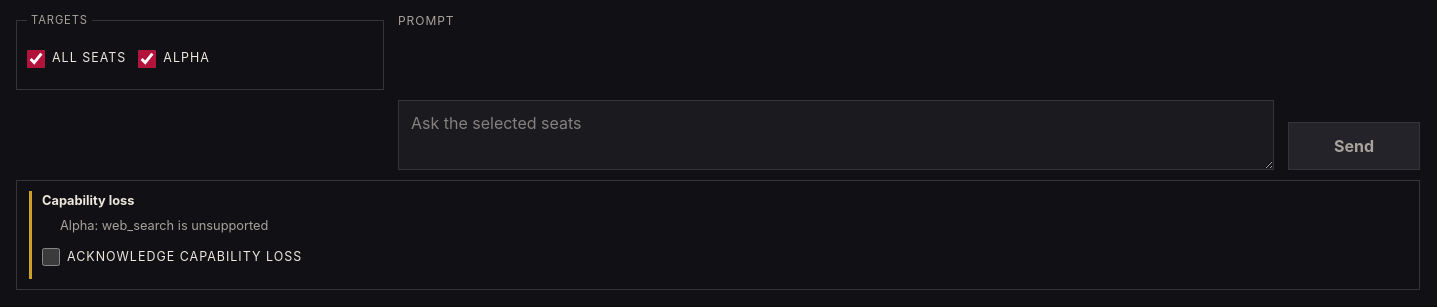
Scenario: Composer › requires acknowledgement for optional capability loss
Type "Search if possible." into the text box labelled "Prompt" at (836, 135), box x1=398 y1=100 x2=1274 y2=170
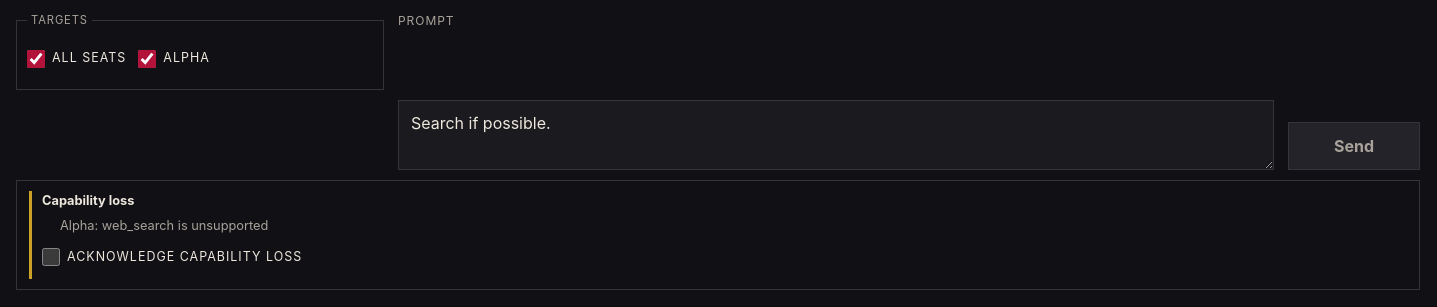
Expected: the list item "Alpha: web_search is unsupported" is shown, x1=60 y1=218 x2=268 y2=233
Expected: the button "Send" is disabled, x1=1288 y1=122 x2=1420 y2=170
Click the checkbox labelled "Acknowledge capability loss" at (51, 257), box x1=42 y1=248 x2=60 y2=266
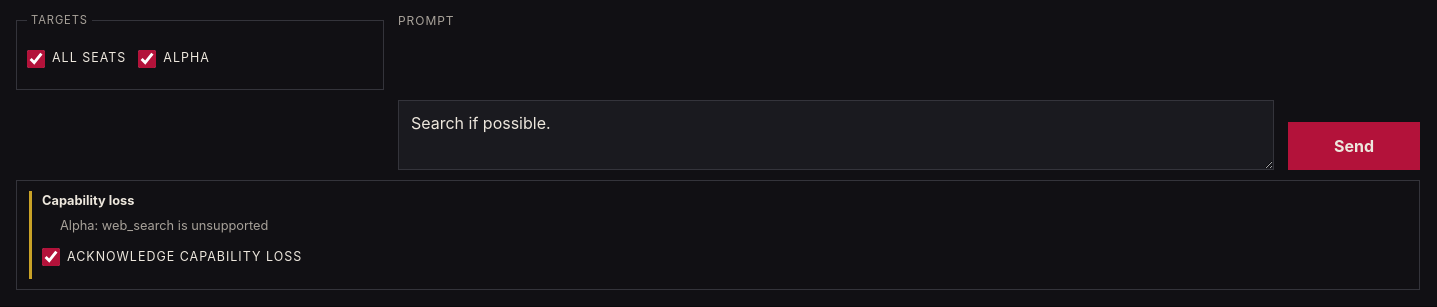
Result: the button "Send" is enabled at x1=1288 y1=122 x2=1420 y2=170
